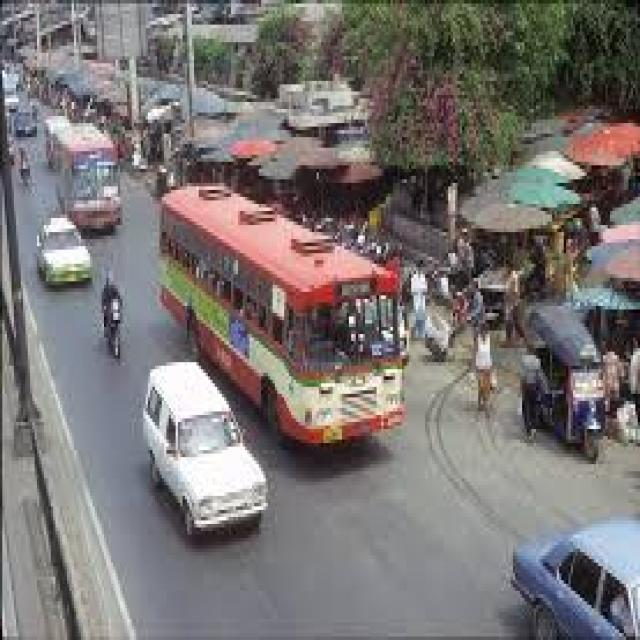bodaboda: (95, 293, 135, 370)
bus: (262, 226, 414, 457), (61, 128, 123, 224)
tuktuk: (537, 304, 608, 459)
